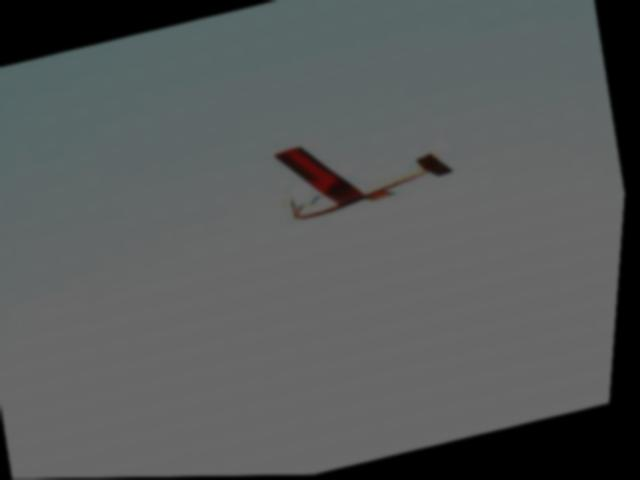iha: (266, 104, 472, 226)
